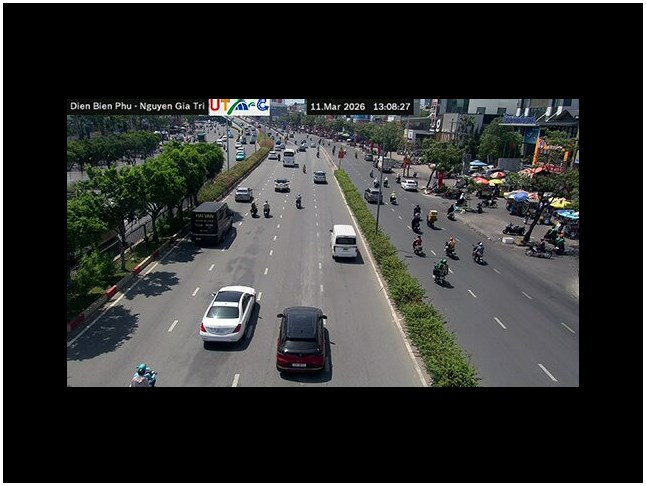bus: (189, 200, 233, 246)
car: (199, 285, 261, 348), (275, 305, 332, 373), (331, 223, 361, 262), (130, 362, 158, 387), (234, 187, 254, 202), (400, 177, 419, 191), (274, 178, 291, 193), (282, 154, 298, 168), (313, 170, 328, 184)
motorbike: (432, 258, 453, 287), (472, 241, 487, 265)
